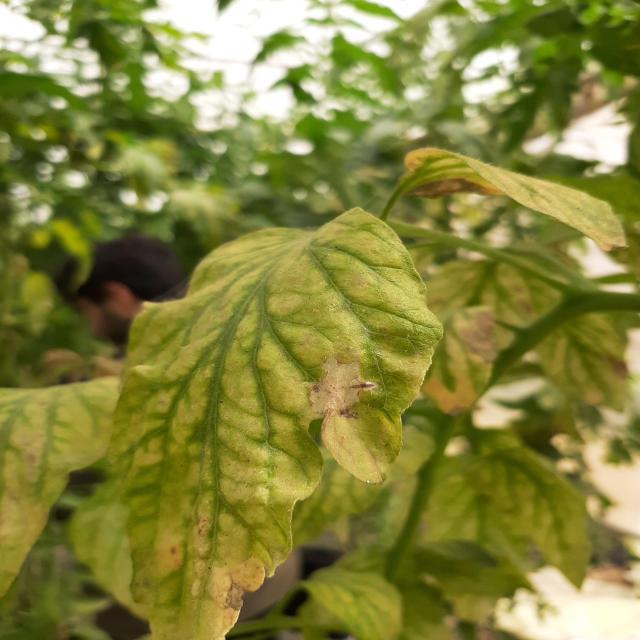Tuta absoluta: (288, 346, 380, 437)
